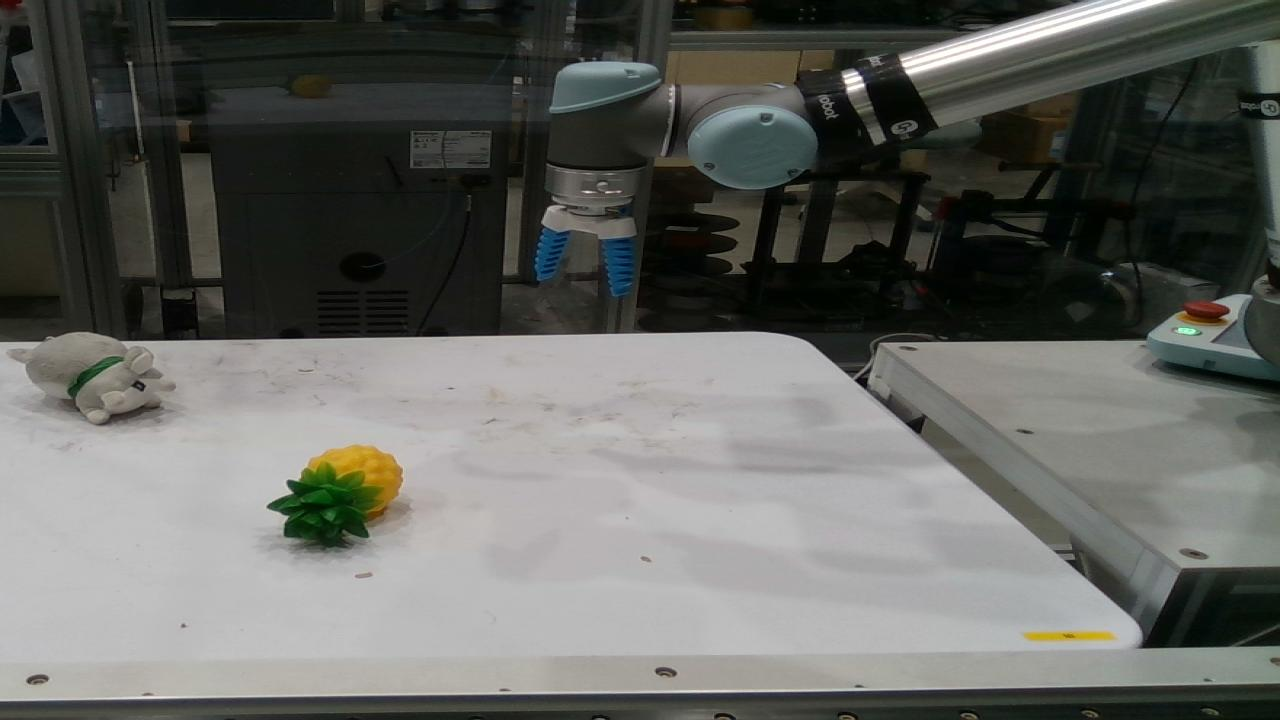UR5: (543, 0, 1279, 376)
gripper_left: (534, 228, 569, 281)
gripper_right: (601, 237, 634, 297)
target: (12, 333, 173, 423), (268, 446, 401, 546)
